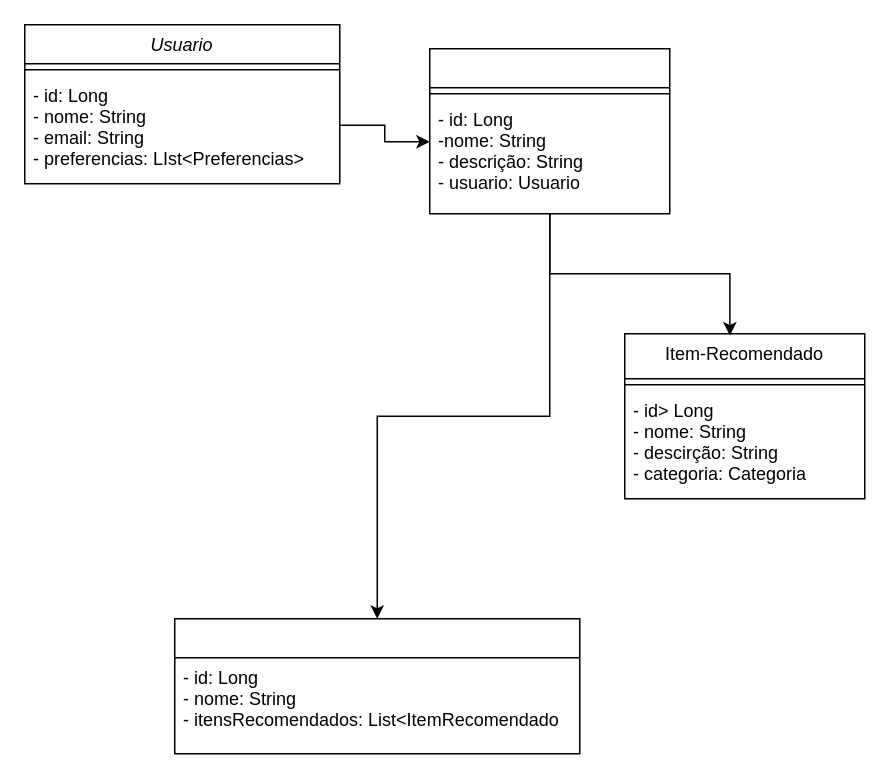
The diagram is 890 pixels wide and 779 high, and some of its shapes have lost their labels. The box of each missing label's shape, as (x1, y1, x2, y2) in pixels:
Categoria: (173, 617, 580, 754)
Preferencia: (428, 47, 670, 214)
